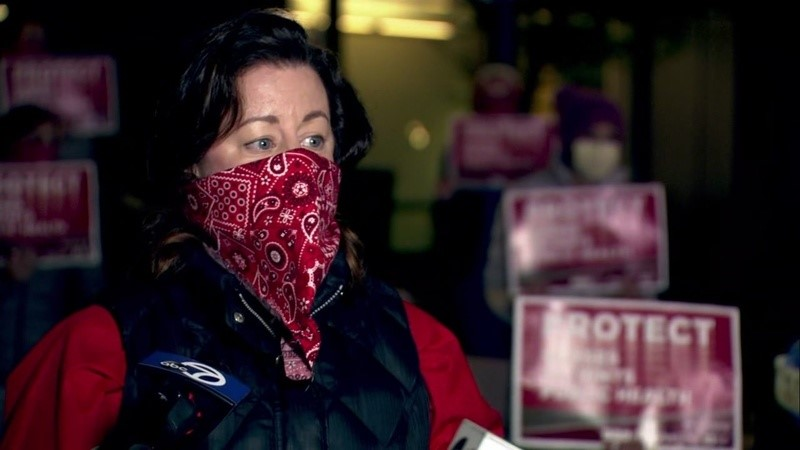face_with_mask: (174, 31, 356, 300)
